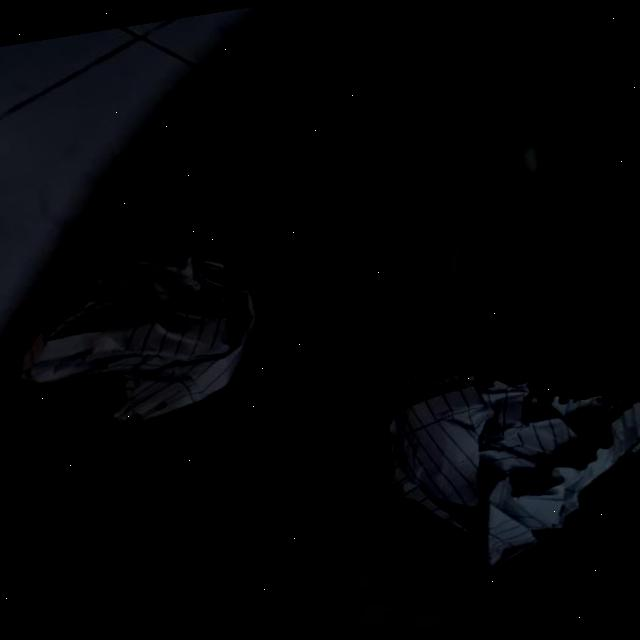trash: (360, 332, 640, 576), (7, 238, 274, 442)
